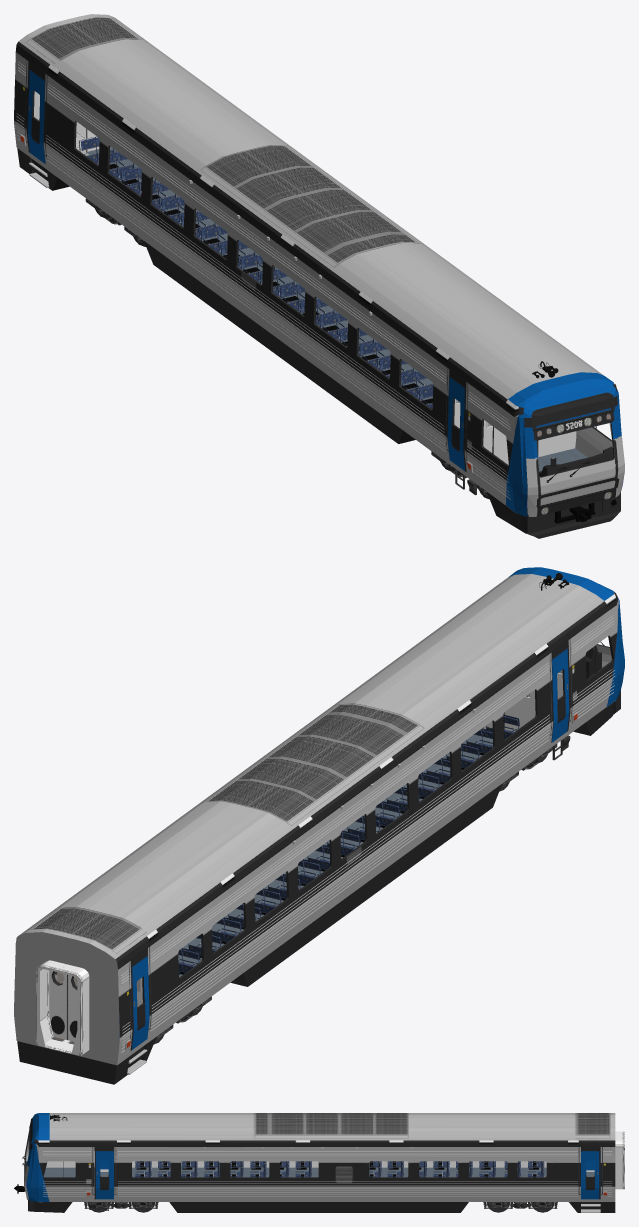
File: nswendeavour.obj
3 views of the same model, one above another, from view 1: azimuth 30°, elevation 25°; view 2: azimuth 150°, elevation 25°; view 3: azimuth 270°, elevation 25° (orthographic). The views are drawn at different scales.
Parts seen in each view (by area): view 1: jibung2, frontside, bid, front, oscarchair, habu, badak, bumper, driverwall, door_RF, door_RB, frontteul (+2 smaller); view 2: jibung2, frontside, bid, habu, backout, oscarchair, mak, badak, backdoor, door_RF, door_RB, driverwall; view 3: frontside, jibung2, bid, habu, oscarchair, badak, DT71, front_inside, door_LB, door_LF, mak, front (+1 smaller).
Boxes of the visible parts, left/top/right/bottom form: jibung2: left=19, top=14, right=612, bottom=405; frontside: left=14, top=41, right=623, bottom=516; bid: left=16, top=61, right=510, bottom=499; front: left=517, top=379, right=624, bottom=516; oscarchair: left=79, top=136, right=433, bottom=409; habu: left=17, top=148, right=526, bottom=533; badak: left=84, top=146, right=587, bottom=471; bumper: left=522, top=492, right=620, bottom=538; driverwall: left=454, top=399, right=576, bottom=464; door_RF: left=447, top=376, right=466, bottom=472; door_RB: left=26, top=68, right=45, bottom=163; frontteul: left=531, top=392, right=619, bottom=508; jibung2: left=19, top=567, right=613, bottom=958; frontside: left=14, top=592, right=624, bottom=1065; bid: left=121, top=615, right=614, bottom=1052; habu: left=17, top=702, right=614, bottom=1084; backout: left=14, top=932, right=119, bottom=1065; oscarchair: left=178, top=714, right=519, bottom=977; mak: left=36, top=960, right=89, bottom=1055; badak: left=178, top=728, right=492, bottom=977; backdoor: left=49, top=970, right=77, bottom=1041; door_RF: left=551, top=647, right=570, bottom=742; door_RB: left=130, top=955, right=149, bottom=1050; driverwall: left=482, top=670, right=563, bottom=731; frontside: left=26, top=1139, right=615, bottom=1202; jibung2: left=39, top=1113, right=615, bottom=1140; bid: left=43, top=1151, right=612, bottom=1196; habu: left=34, top=1201, right=615, bottom=1212; oscarchair: left=135, top=1161, right=544, bottom=1177; badak: left=43, top=1167, right=594, bottom=1195; DT71: left=84, top=1202, right=557, bottom=1212; front_inside: left=27, top=1148, right=546, bottom=1167; door_LB: left=581, top=1151, right=600, bottom=1199; door_LF: left=94, top=1151, right=113, bottom=1199; mak: left=615, top=1131, right=624, bottom=1189; front: left=24, top=1113, right=38, bottom=1199.
Size of the model in its own units: 3.06 by 4.18 by 26.15.
Materials: 37 (36 with a texture image).
